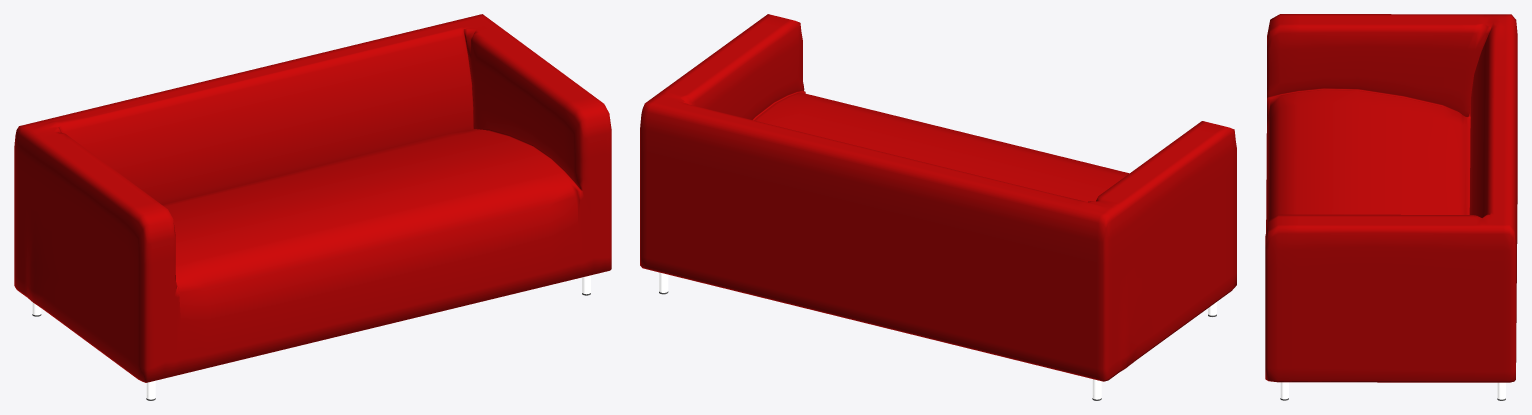
The picture shows the model from 3 angles, left to right: view 1: azimuth 30°, elevation 25°; view 2: azimuth 150°, elevation 25°; view 3: azimuth 270°, elevation 25°; orthographic projection. The views are drawn at different scales.
Visible parts, largest first — view 1: IKEA-Kipplan_2_Seat_Sofa-3D; view 2: IKEA-Kipplan_2_Seat_Sofa-3D; view 3: IKEA-Kipplan_2_Seat_Sofa-3D.
Part boxes in pixels (x1,y1,x2,y2): IKEA-Kipplan_2_Seat_Sofa-3D: (14, 14, 611, 400); IKEA-Kipplan_2_Seat_Sofa-3D: (640, 14, 1236, 400); IKEA-Kipplan_2_Seat_Sofa-3D: (1265, 14, 1517, 400).
Bounding box in the file's own units: 1.8 × 0.6977 × 0.8863.
